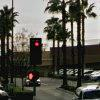Car: (69, 78, 100, 100)
